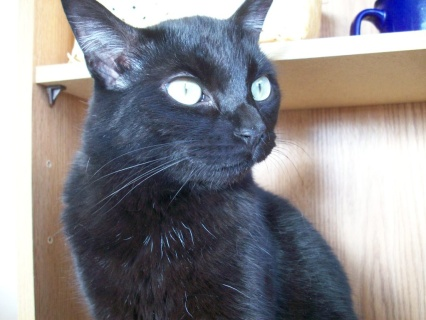Cat: (57, 0, 360, 319)
